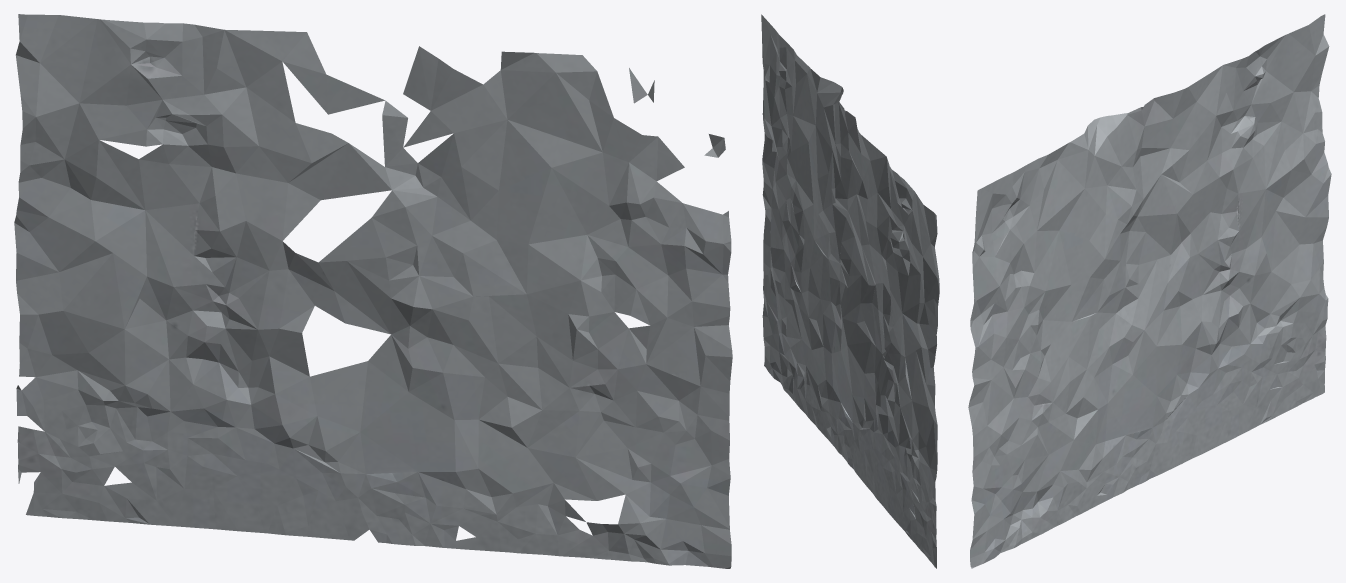
The picture shows the model from 3 angles, left to right: view 1: azimuth 30°, elevation 25°; view 2: azimuth 150°, elevation 25°; view 3: azimuth 270°, elevation 25°; orthographic projection. The views are drawn at different scales.
Size of the model in its own units: 0.8374 by 0.8374 by 0.7282.
4 materials, 4 textured.
